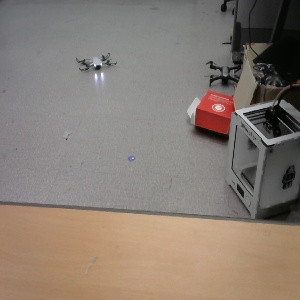Drone: (77, 51, 117, 83)
